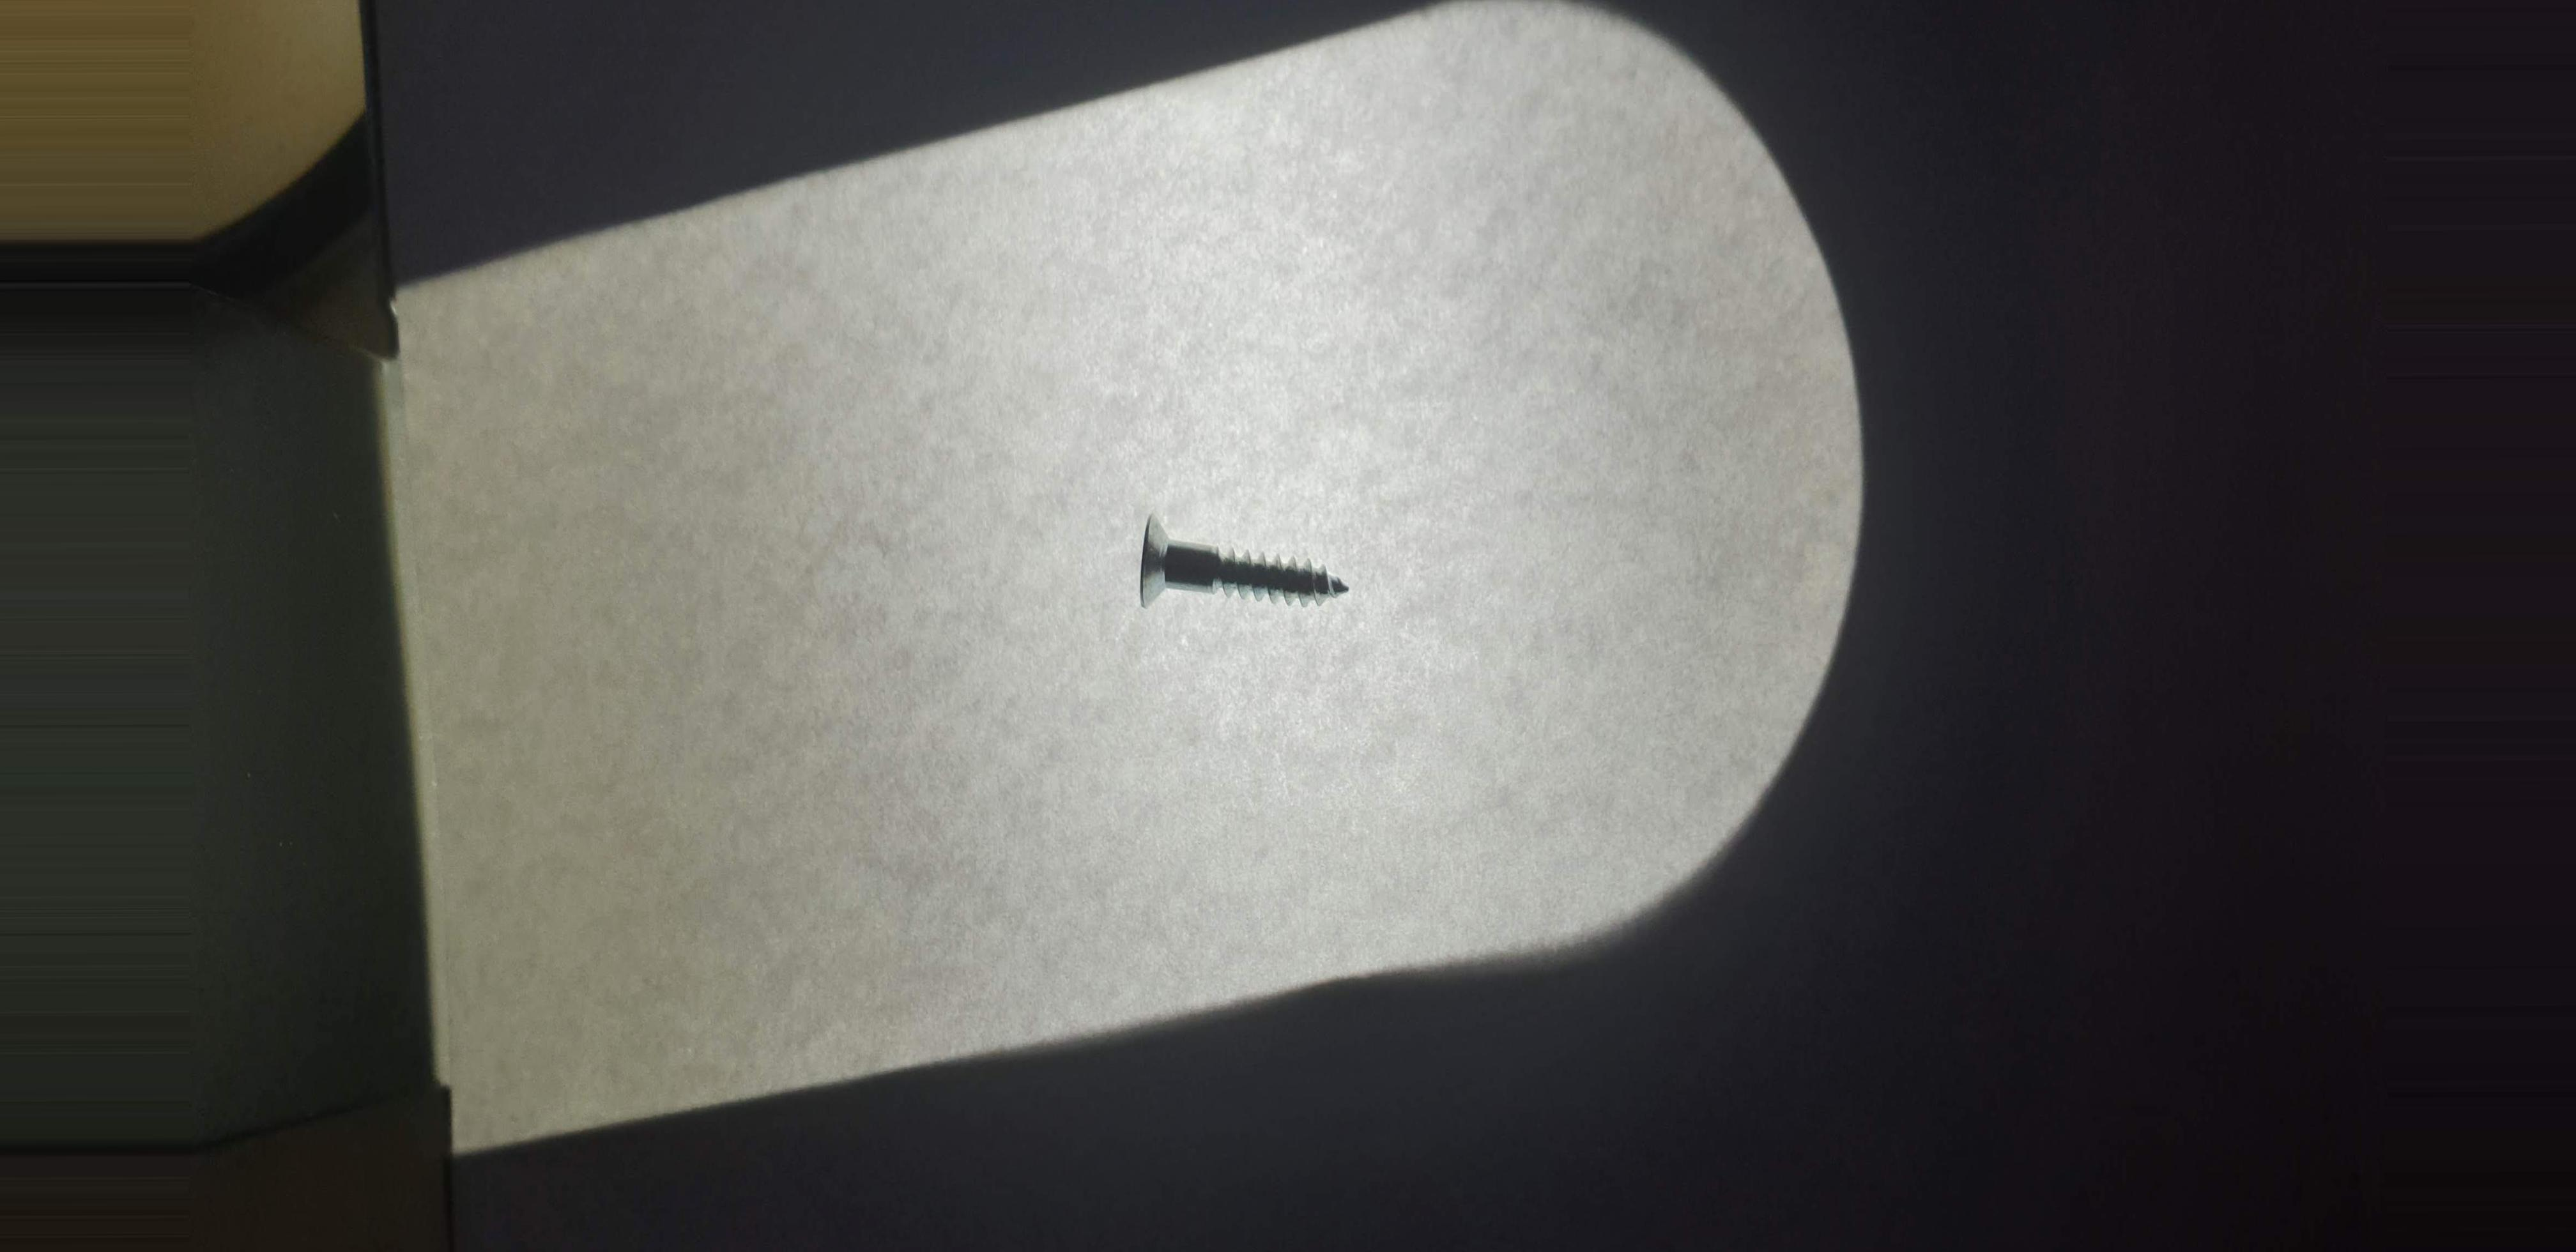S005: (1111, 488, 1395, 646)
